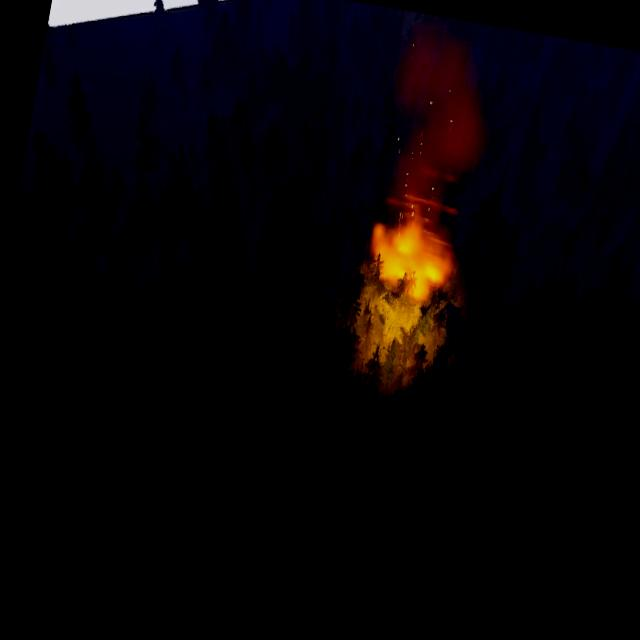fire: (358, 194, 461, 304)
smoke: (360, 10, 510, 203)
